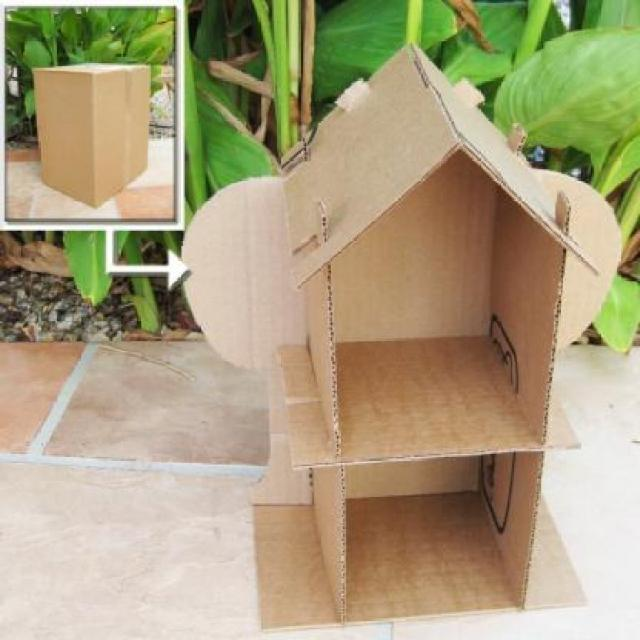box: (35, 63, 151, 204)
